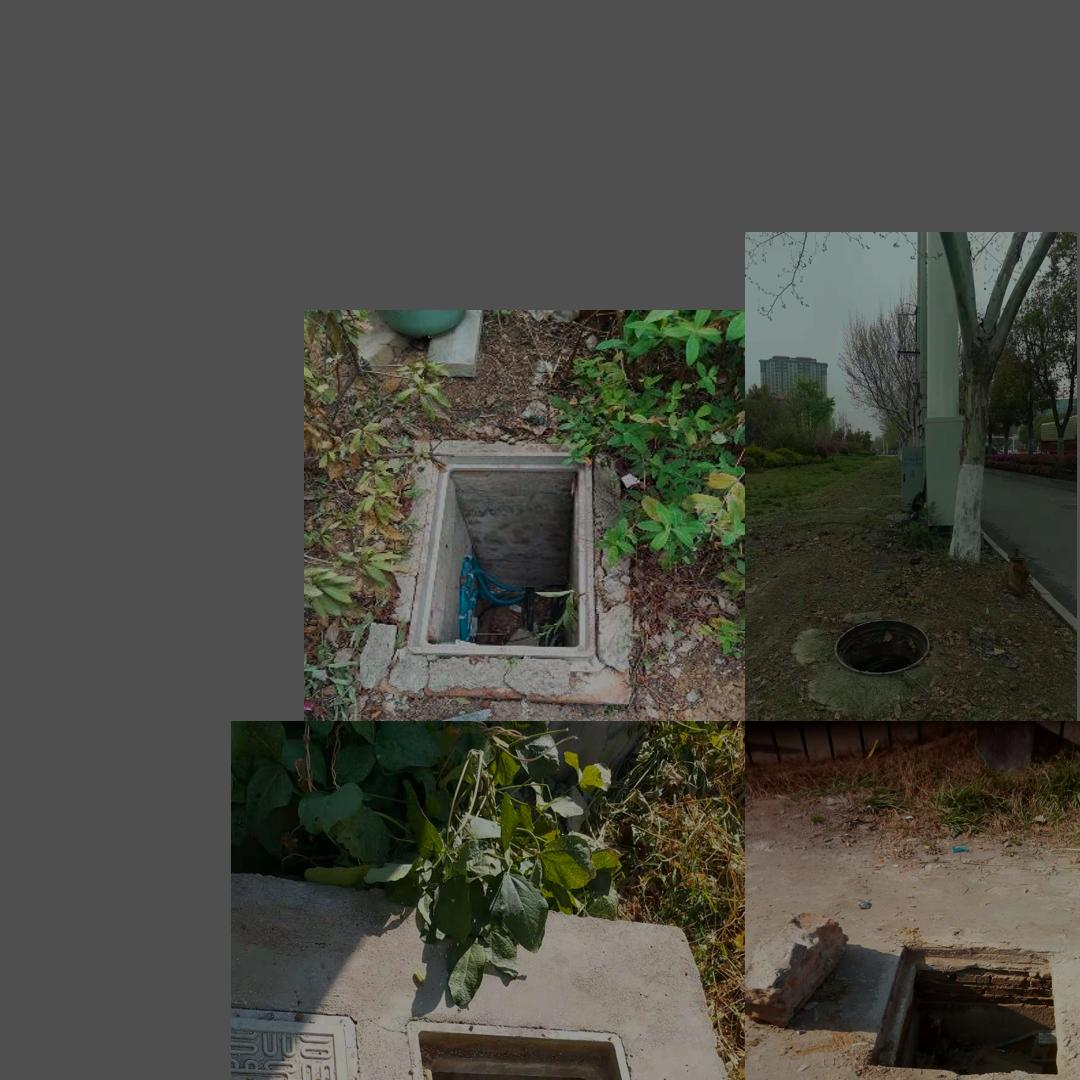lose: (409, 452, 600, 656), (853, 941, 1068, 1080), (408, 1018, 701, 1080), (833, 618, 929, 675)
